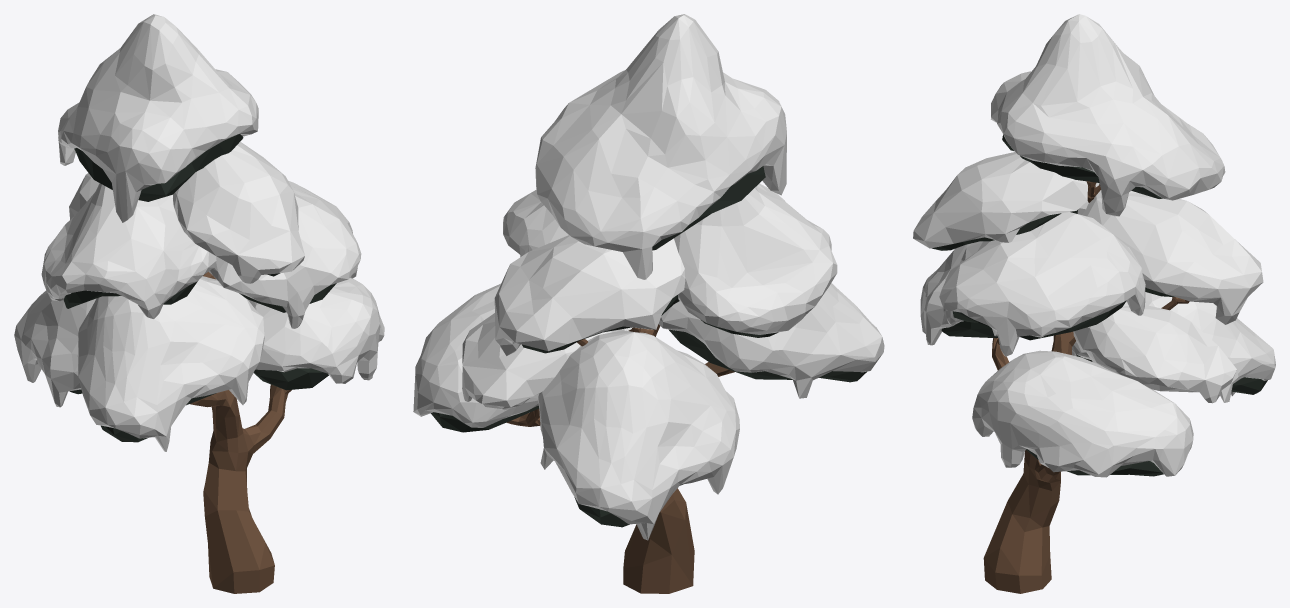
The model's file is Tall_Green_Tree_Snow.fbx.
3 renders of one model, left to right at view 1: azimuth 30°, elevation 25°; view 2: azimuth 150°, elevation 25°; view 3: azimuth 270°, elevation 25°, orthographic. The views are drawn at different scales.
Parts seen in each view (by area): view 1: Tall Green Tree Snow; view 2: Tall Green Tree Snow; view 3: Tall Green Tree Snow.
Part boxes in pixels (<box>): Tall Green Tree Snow: <box>14,14,384,593</box>; Tall Green Tree Snow: <box>413,14,884,593</box>; Tall Green Tree Snow: <box>913,14,1275,593</box>.
Bounding box in the file's own units: 348 × 528 × 322.
